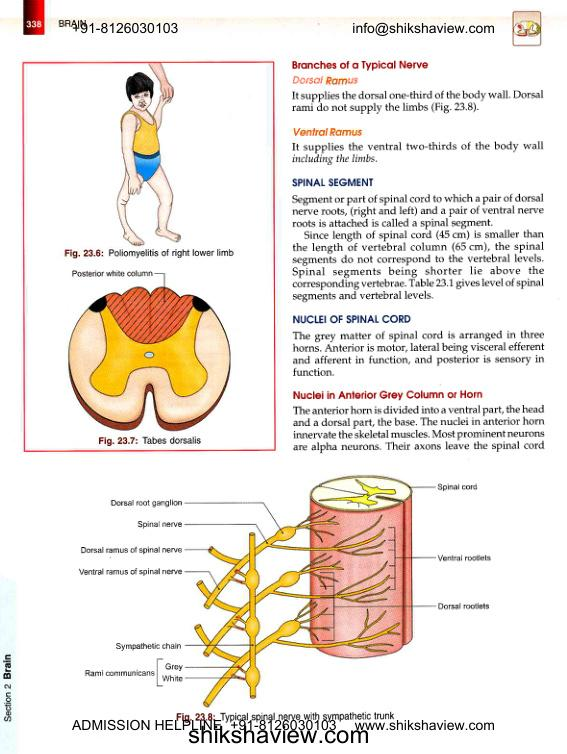caption: (175, 712, 395, 722), (64, 248, 235, 259), (97, 435, 202, 447)
image: (71, 465, 505, 710), (56, 262, 243, 434), (93, 62, 200, 247)
section-heading: (292, 314, 412, 324), (291, 177, 375, 188)
sub-section-heading: (292, 390, 484, 401), (291, 59, 430, 72), (291, 74, 359, 86), (292, 127, 363, 137)
text: (291, 193, 546, 303), (292, 404, 545, 454), (292, 330, 546, 377), (291, 88, 545, 115), (291, 140, 544, 166)
